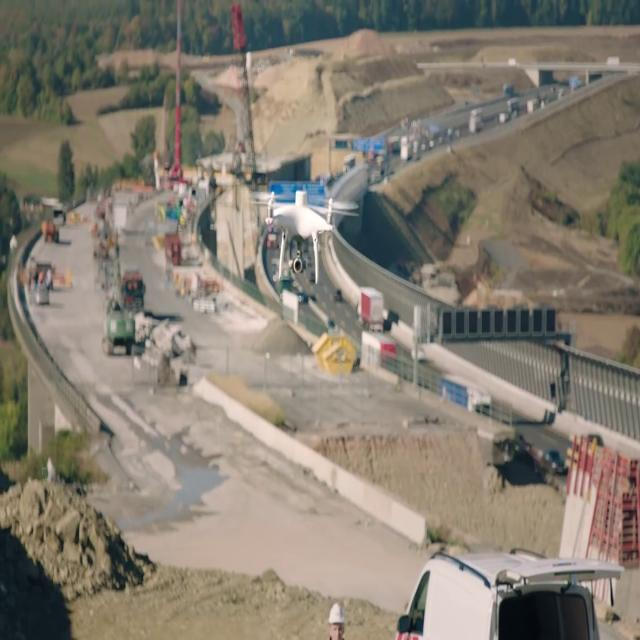drone: (251, 188, 359, 284)
